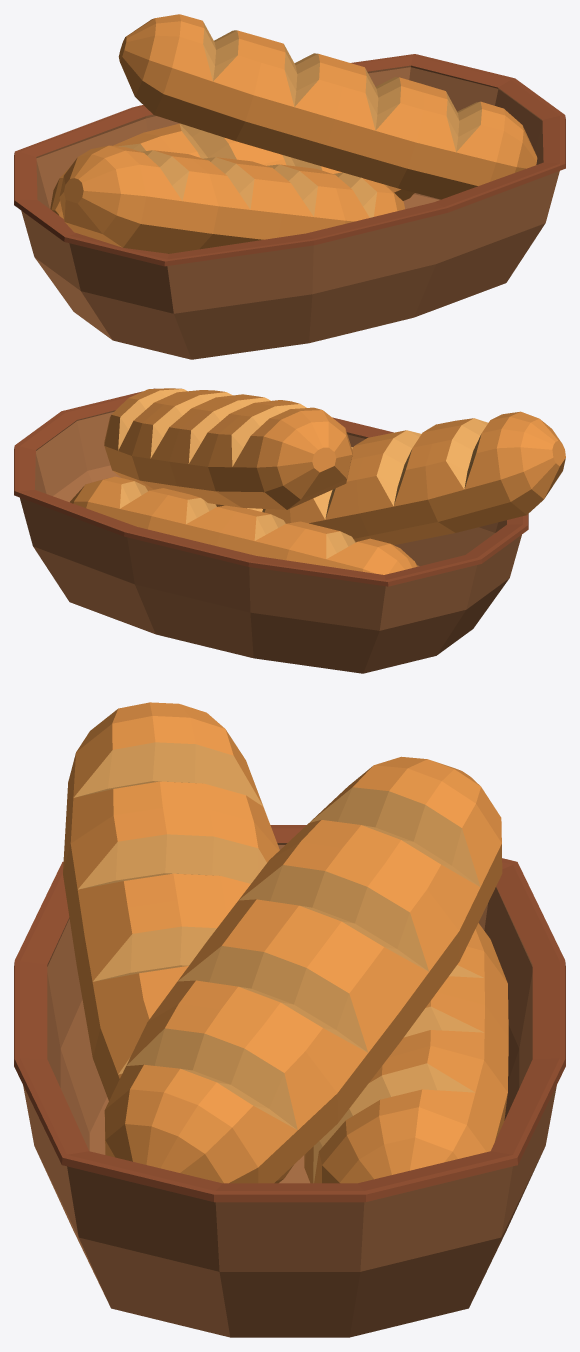
The model's file is Panera.fbx.
3 views of the same model, one above another, from view 1: azimuth 30°, elevation 25°; view 2: azimuth 150°, elevation 25°; view 3: azimuth 270°, elevation 25° (orthographic). The views are drawn at different scales.
Parts seen in each view (by area): view 1: Panera_Con_Pan; view 2: Panera_Con_Pan; view 3: Panera_Con_Pan.
Part boxes in pixels (<box>): Panera_Con_Pan: <box>14,14,565,359</box>; Panera_Con_Pan: <box>14,388,565,673</box>; Panera_Con_Pan: <box>14,702,565,1337</box>.
Bounding box in the file's own units: 32.89 × 14.91 × 20.06.
